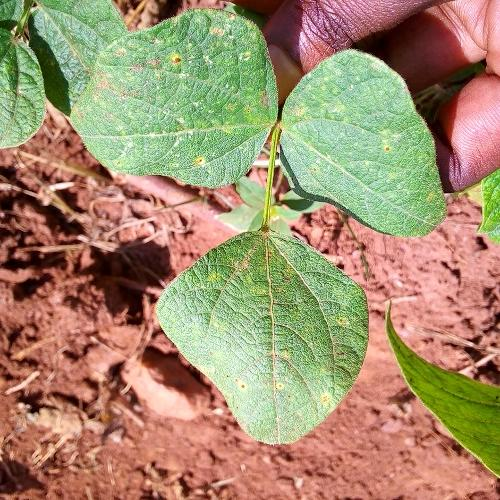hawar: (134, 42, 254, 160), (336, 110, 418, 197), (196, 333, 264, 392)
